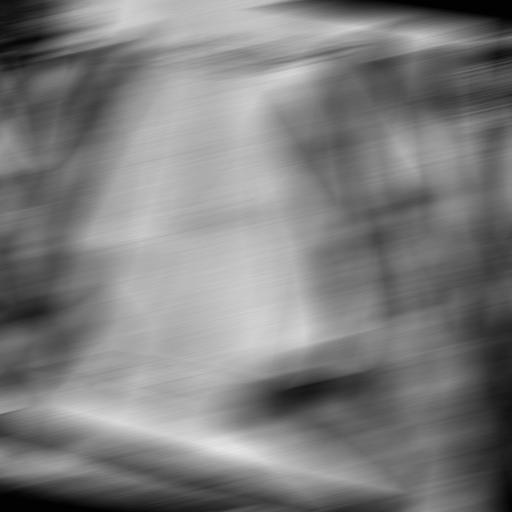bottom_left: (374, 491, 405, 502)
bottom_right: (0, 405, 26, 418)
envelop: (47, 0, 388, 417)
